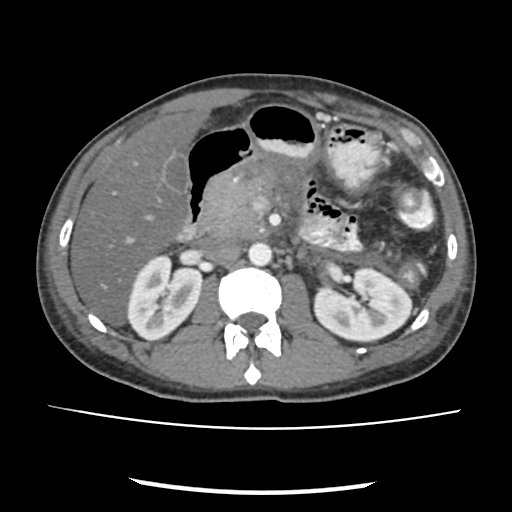aorta: (246, 240, 272, 268)
